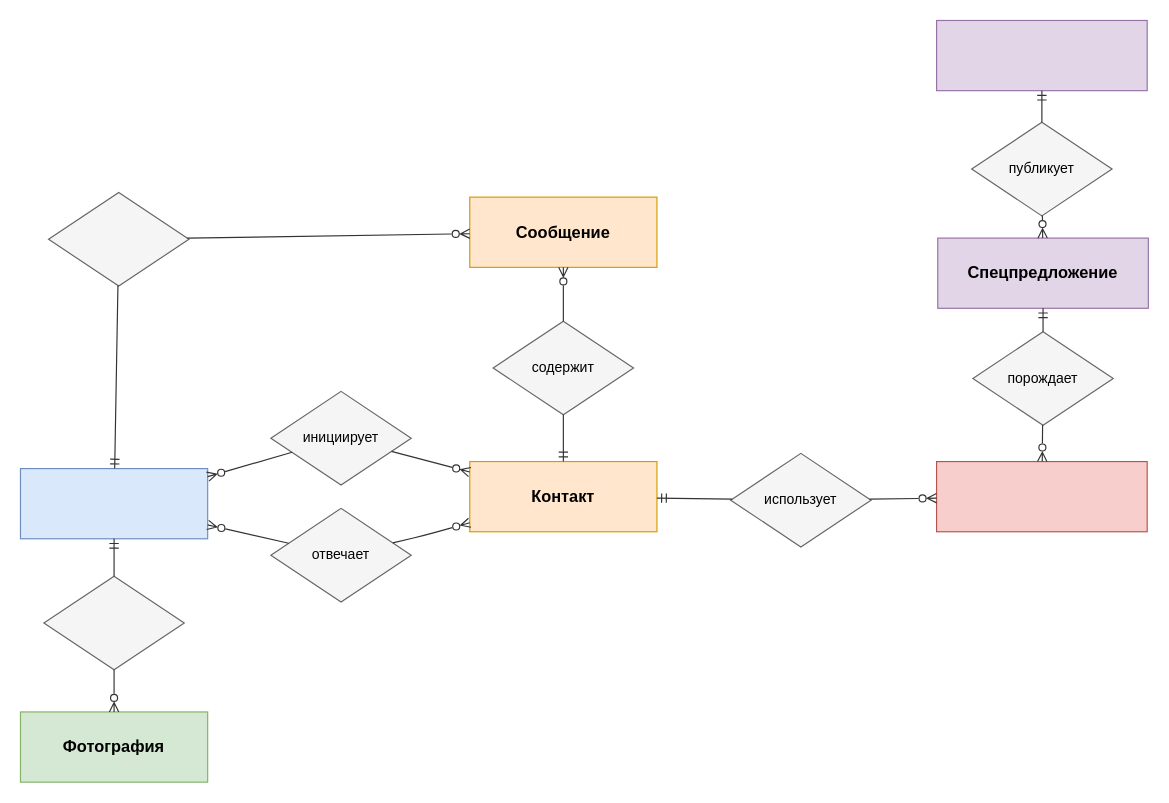
Image size: 1169x803. Some labels were removed from this diagram. The box of each missing label's shape, as (x1, y1, x2, y2) in pixels:
имеет: (43, 575, 184, 670)
Партнёрский объект: (935, 19, 1147, 91)
пишет: (47, 191, 189, 286)
Пользователь: (19, 467, 208, 539)
Промокод: (935, 460, 1147, 532)
